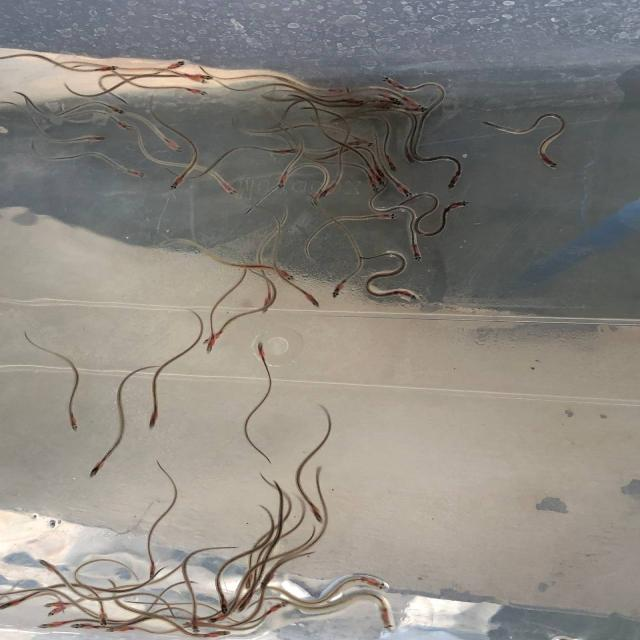glass_eel: (98, 622, 141, 636), (357, 575, 392, 592), (159, 136, 190, 155), (255, 567, 277, 591), (138, 560, 163, 581), (198, 327, 226, 344), (146, 405, 164, 431), (405, 236, 422, 262), (202, 627, 236, 640), (86, 457, 107, 478), (301, 293, 328, 309), (362, 177, 382, 198), (379, 75, 405, 91), (37, 560, 63, 576), (110, 120, 136, 136), (368, 170, 391, 188), (209, 593, 227, 616), (375, 157, 392, 181), (180, 85, 209, 99), (270, 143, 301, 156), (204, 336, 226, 354), (168, 176, 190, 194), (2, 597, 30, 611), (399, 98, 429, 111), (273, 170, 292, 190), (310, 186, 327, 208), (210, 610, 232, 627), (42, 606, 76, 617), (254, 341, 270, 364), (350, 136, 376, 150), (326, 282, 346, 300), (218, 179, 239, 196), (540, 155, 562, 171), (38, 620, 67, 632), (270, 598, 288, 617), (68, 621, 99, 632), (261, 296, 278, 316), (446, 199, 472, 212), (272, 268, 298, 281), (444, 173, 465, 189), (380, 613, 394, 637), (241, 568, 255, 592), (184, 613, 200, 634), (165, 57, 188, 71), (396, 291, 419, 305), (308, 504, 322, 527), (327, 82, 353, 94), (40, 598, 66, 610), (320, 182, 339, 198), (184, 71, 214, 81), (125, 168, 148, 181), (381, 158, 398, 175), (403, 147, 419, 165), (238, 597, 254, 615), (80, 133, 106, 144), (183, 74, 206, 86), (66, 414, 83, 430), (93, 62, 123, 71), (367, 212, 397, 221), (380, 90, 402, 102), (107, 104, 127, 117), (409, 108, 431, 119), (346, 98, 372, 107), (370, 101, 394, 110), (96, 609, 106, 627)
